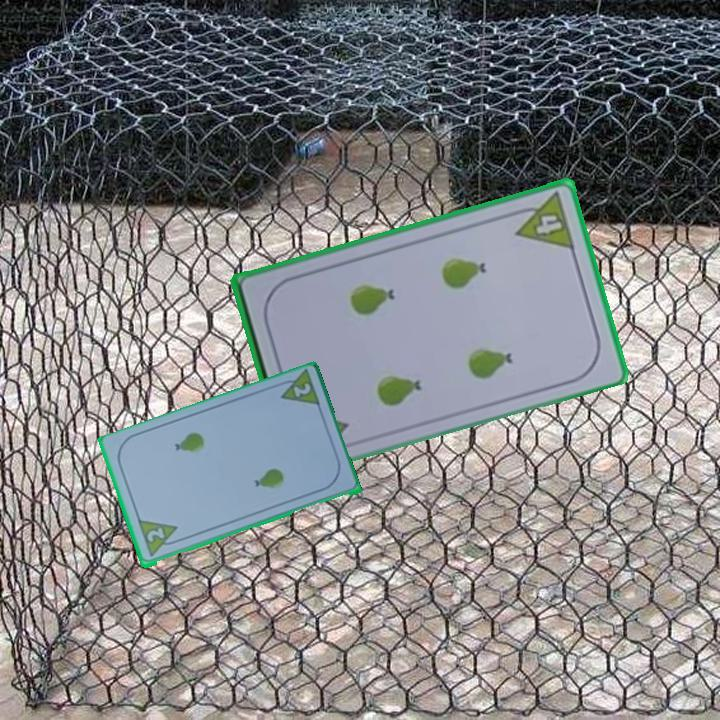2p: (289, 380, 314, 401), (143, 524, 167, 545)
4p: (507, 188, 578, 252)
